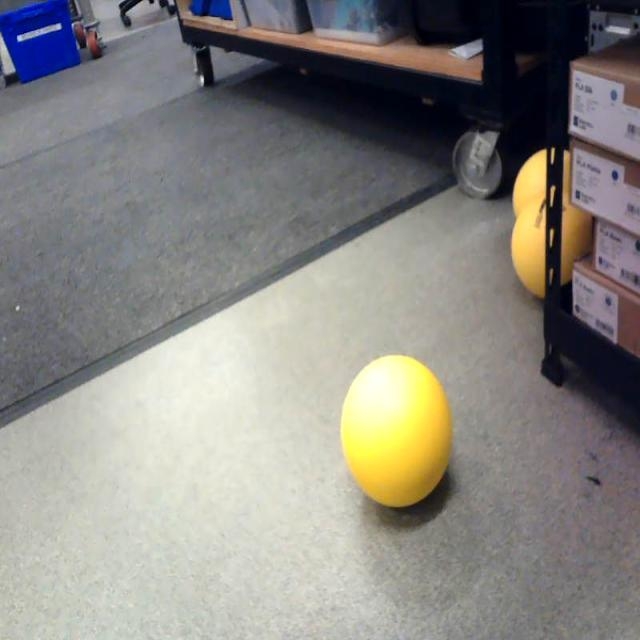Fuel: (341, 355, 454, 507), (512, 188, 596, 300), (514, 148, 586, 238)
